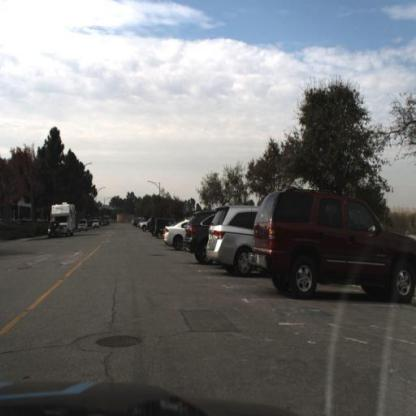car: (253, 184, 416, 317), (207, 203, 264, 280), (184, 205, 211, 265), (163, 216, 188, 251), (45, 219, 64, 242), (154, 216, 167, 242), (78, 218, 89, 234)
truck: (54, 203, 80, 238)
